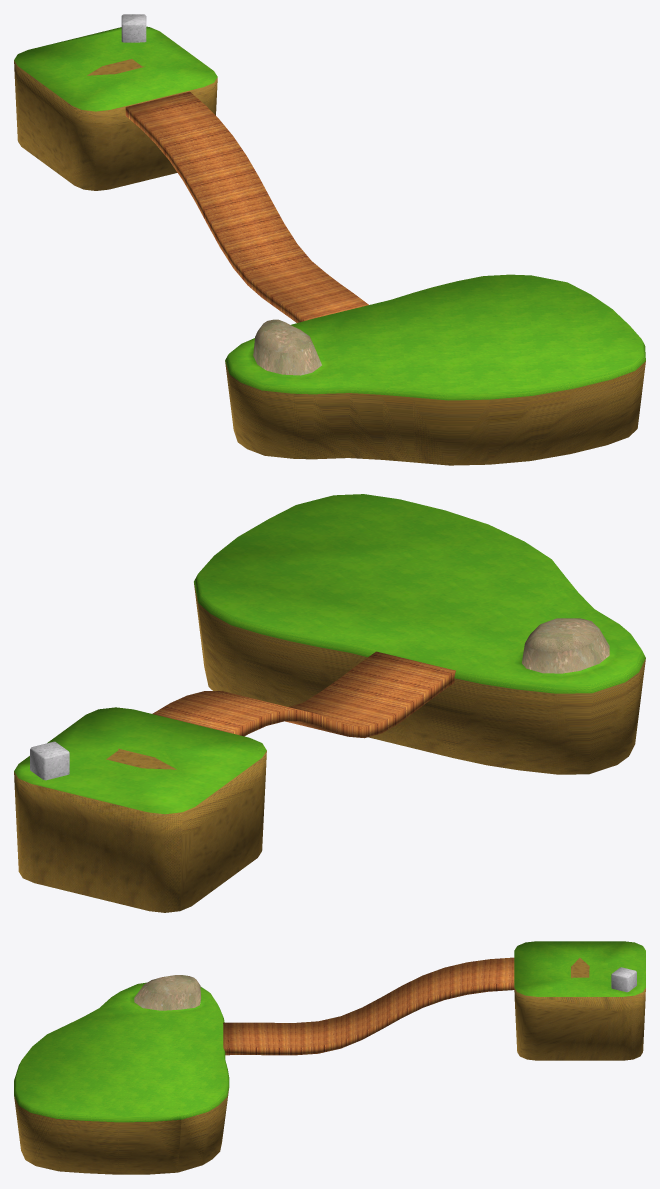
File: Cloud3DStepB.obj
The picture shows the model from 3 angles, top to bottom: view 1: azimuth 30°, elevation 25°; view 2: azimuth 150°, elevation 25°; view 3: azimuth 270°, elevation 25°; orthographic projection. The views are drawn at different scales.
Parts seen in each view (by area): view 1: Plane.003_Plane.022; view 2: Plane.003_Plane.022; view 3: Plane.003_Plane.022.
Part boxes in pixels (box(x1,y1,x2,y2)): Plane.003_Plane.022: box(14, 14, 645, 465); Plane.003_Plane.022: box(14, 494, 645, 912); Plane.003_Plane.022: box(14, 941, 645, 1174).
Bounding box in the file's own units: 933 × 444 × 1815.
5 materials, 5 textured.
